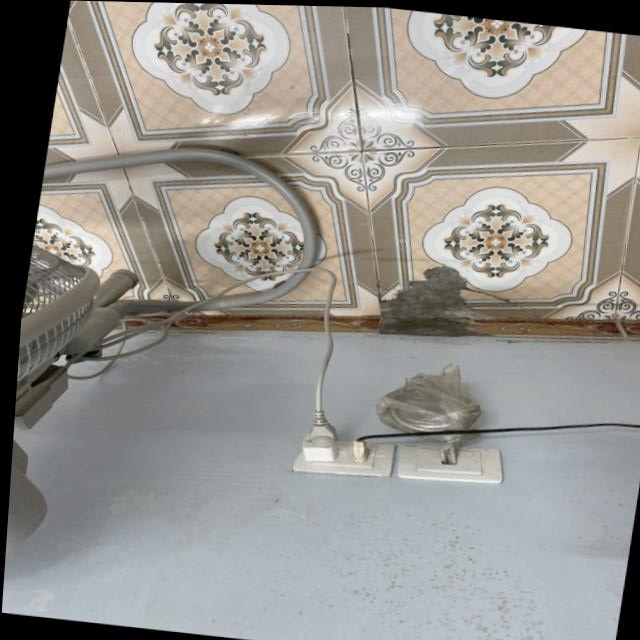outlet: (393, 439, 508, 490), (290, 433, 396, 484)
